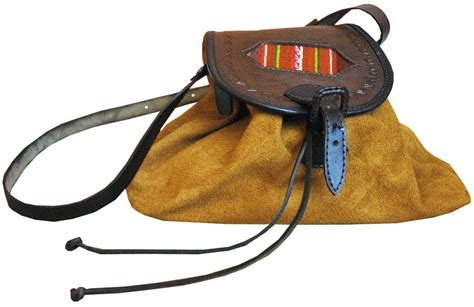gamuza: (125, 87, 472, 225)
